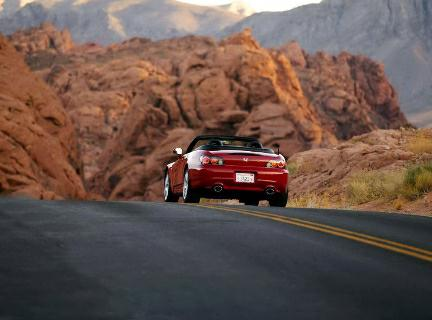本田-S2000: (160, 134, 297, 213)
